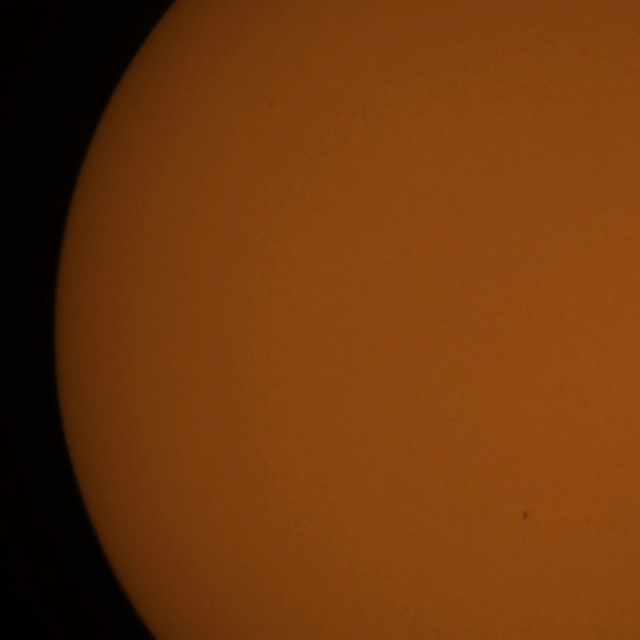sunspot: (521, 509, 530, 522), (266, 100, 275, 110)
